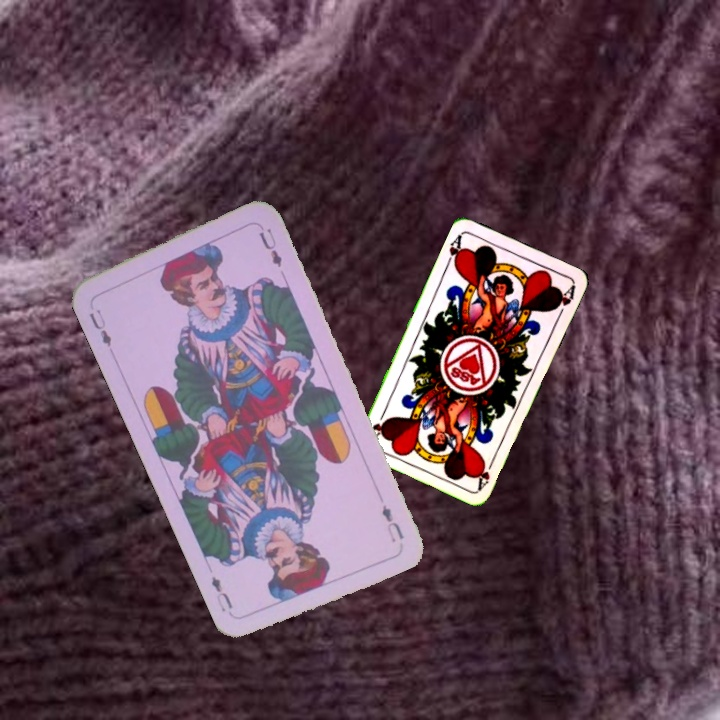EU: (377, 500, 407, 545), (85, 305, 114, 350)
HA: (472, 453, 498, 492), (442, 230, 466, 270)
